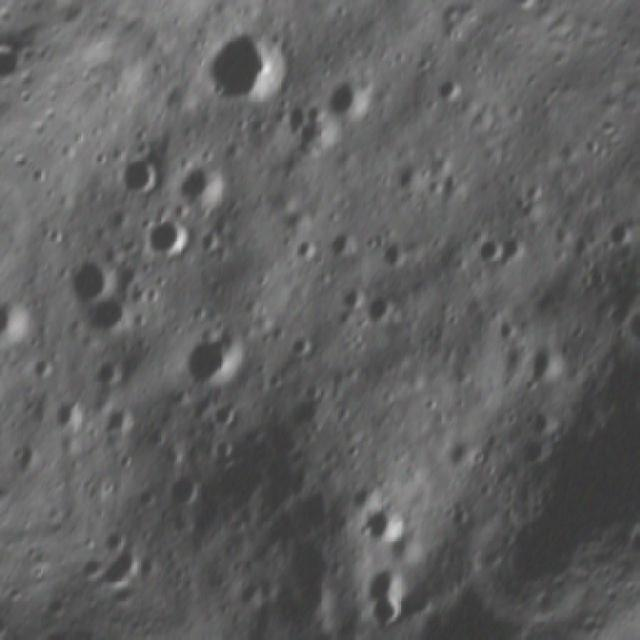crater: (174, 0, 320, 146), (340, 551, 431, 640), (167, 317, 256, 408), (48, 240, 132, 322), (160, 150, 242, 232), (314, 62, 392, 138), (132, 203, 208, 279), (343, 494, 415, 566), (105, 144, 172, 213), (73, 286, 138, 354), (454, 220, 520, 286), (0, 283, 46, 366), (85, 389, 147, 449), (350, 280, 410, 340), (83, 348, 142, 408), (314, 223, 374, 282), (153, 460, 209, 518), (46, 395, 102, 450), (365, 229, 418, 283), (604, 287, 640, 358)
